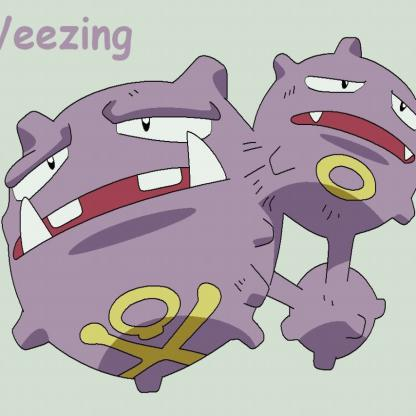Weezing: (1, 38, 416, 391)
